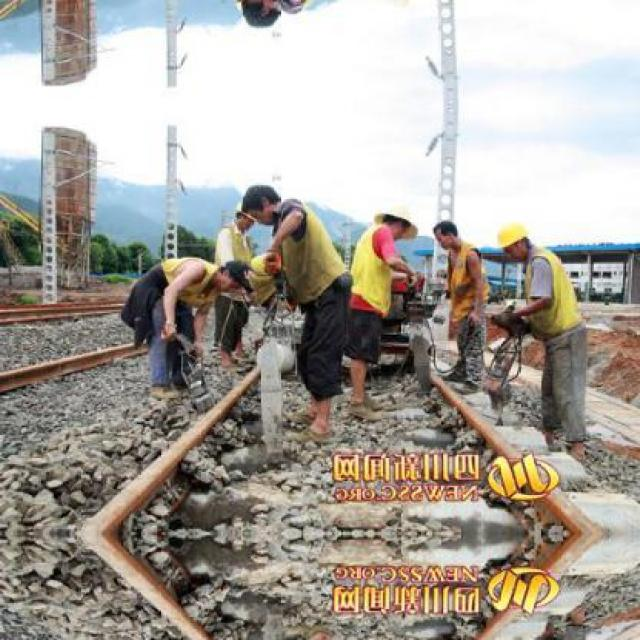Reflective-Jacket: (137, 248, 245, 352), (266, 197, 351, 313), (517, 245, 588, 341), (344, 222, 408, 319), (437, 239, 491, 322)
Safety-Helmet: (365, 193, 423, 239), (489, 214, 537, 254)
